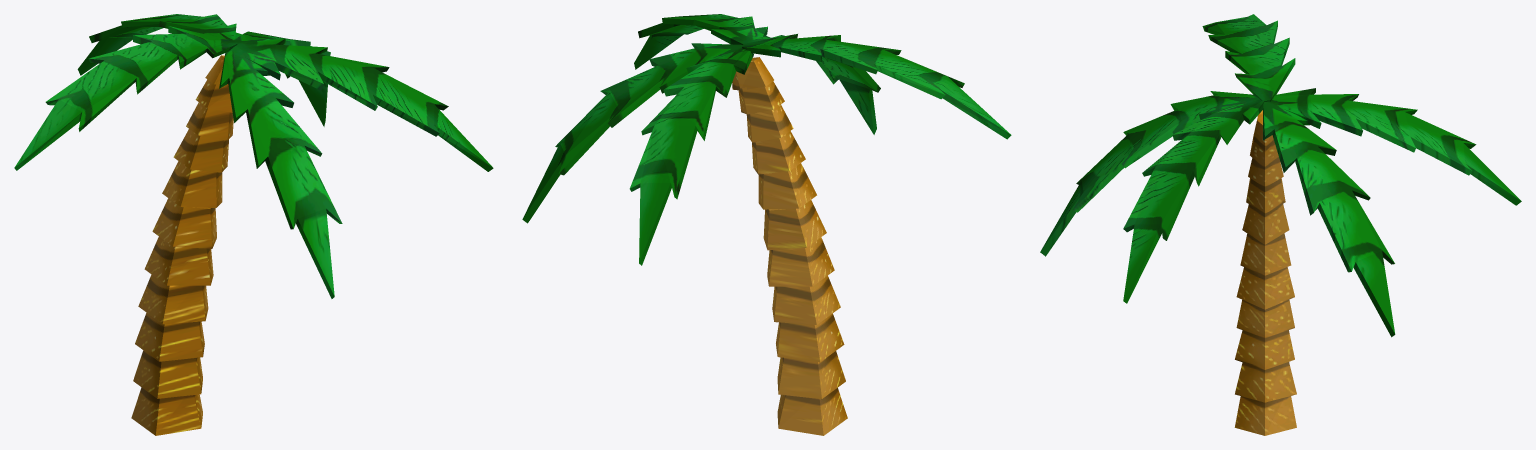
File: Palm2.glb
3 views of the same model, side by side, from view 1: azimuth 30°, elevation 25°; view 2: azimuth 150°, elevation 25°; view 3: azimuth 270°, elevation 25° (orthographic). The views are drawn at different scales.
Visible parts, largest first — view 1: Palm2; view 2: Palm2; view 3: Palm2.
Part boxes in pixels (<box>): Palm2: <box>14,14,493,435</box>; Palm2: <box>522,14,1011,435</box>; Palm2: <box>1040,14,1521,435</box>.
Bounding box in the file's own units: 208 × 177 × 208.
Materials: 1 (1 with a texture image).
